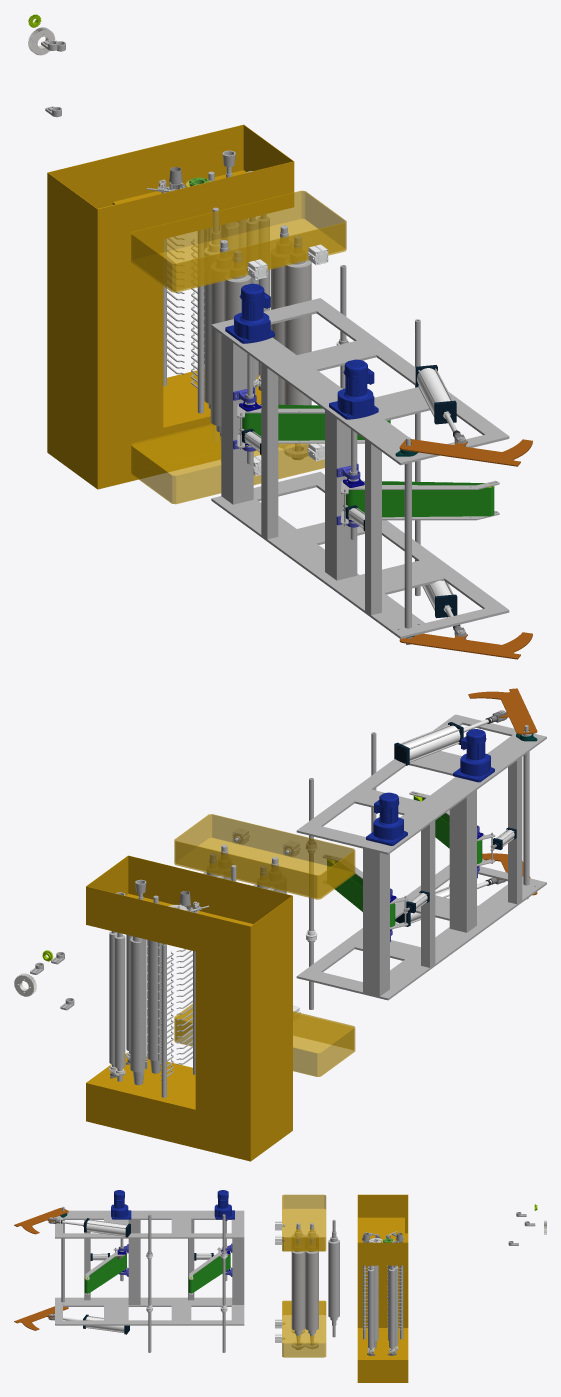
Rendered from TW406_keseluruhan.glb.
The picture shows the model from 3 angles, top to bottom: view 1: azimuth 30°, elevation 25°; view 2: azimuth 150°, elevation 25°; view 3: azimuth 270°, elevation 25°; orthographic projection. The views are drawn at different scales.
Parts seen in each view (by area): view 1: Solid1 (×21), Solid2 (×4); view 2: Solid1 (×23); view 3: Solid1 (×25), Solid2 (×2).
Boxes of the visible parts, x1=… form: Solid1 (×21): x1=47, y1=124, x2=532, y2=659; Solid2 (×4): x1=210, y1=225, x2=311, y2=451; Solid1 (×23): x1=86, y1=688, x2=546, y2=1161; Solid1 (×25): x1=14, y1=1194, x2=408, y2=1382; Solid2 (×2): x1=291, y1=1238, x2=318, y2=1345.
Bounding box in the file's own units: 1.8 × 2.77 × 8.45.
